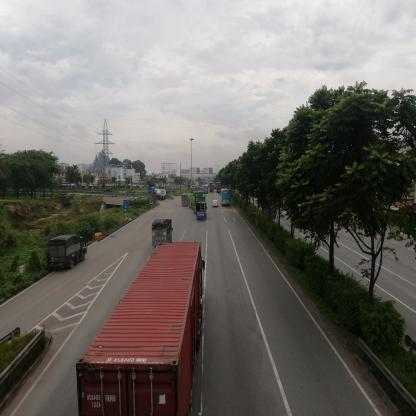bus: (221, 190, 231, 206)
car: (214, 200, 220, 208)
container: (88, 243, 203, 414), (192, 191, 206, 206)
truck: (55, 236, 89, 274), (153, 221, 173, 248), (153, 190, 167, 201), (198, 205, 206, 221), (183, 194, 191, 207)
